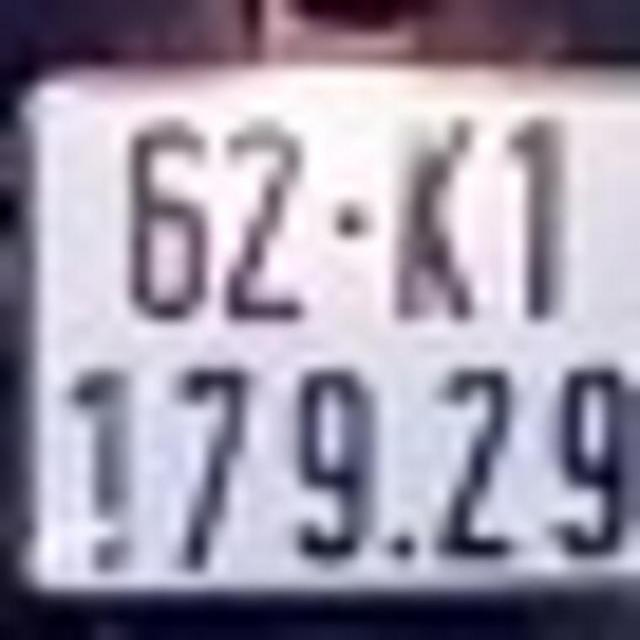1: (72, 369, 138, 570), (507, 114, 568, 319)
2: (216, 116, 308, 319), (440, 360, 519, 554)
6: (128, 111, 209, 324)
7: (169, 359, 251, 578)
9: (555, 356, 632, 564), (290, 362, 370, 559)
K: (397, 104, 484, 322)
